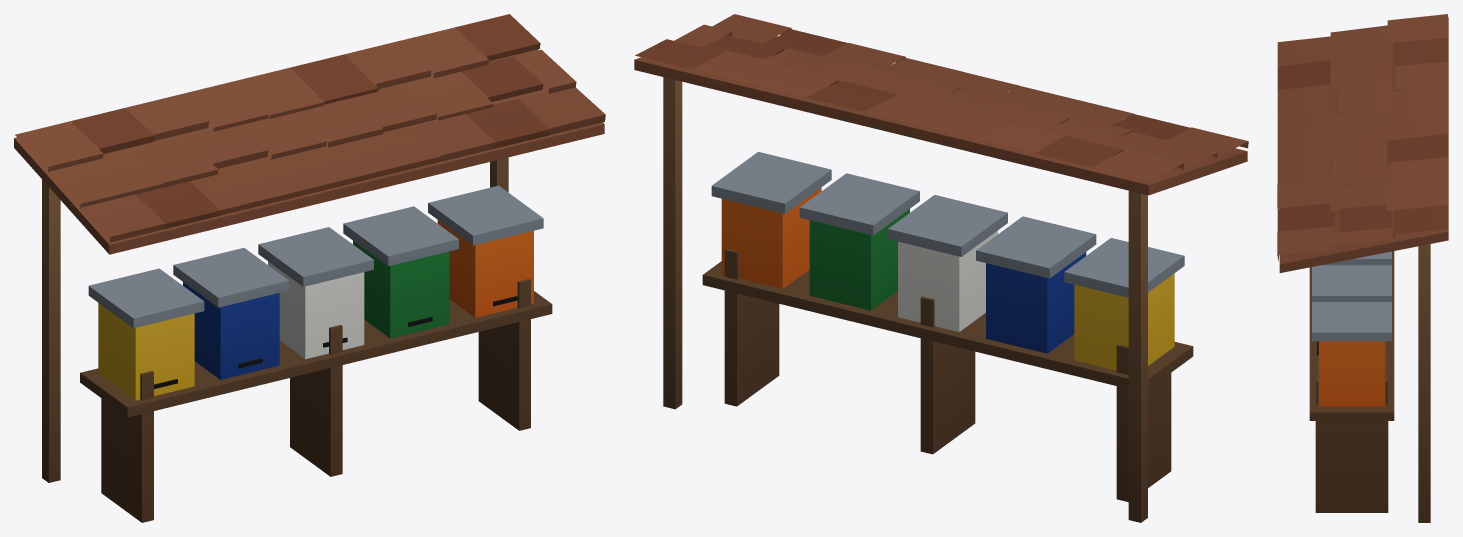
File: Beehives.fbx
3 views of the same model, side by side, from view 1: azimuth 30°, elevation 25°; view 2: azimuth 150°, elevation 25°; view 3: azimuth 270°, elevation 25° (orthographic). The views are drawn at different scales.
Visible parts, largest first — view 1: Beehives_LOD0; view 2: Beehives_LOD0; view 3: Beehives_LOD0.
Boxes of the visible parts, left/top/right/bottom form: Beehives_LOD0: left=14, top=14, right=605, bottom=522; Beehives_LOD0: left=634, top=14, right=1248, bottom=522; Beehives_LOD0: left=1277, top=14, right=1448, bottom=522.
Size of what is drawn, in the model's own units: 4.2 by 2.81 by 1.42.
Materials: 1 (1 with a texture image).
